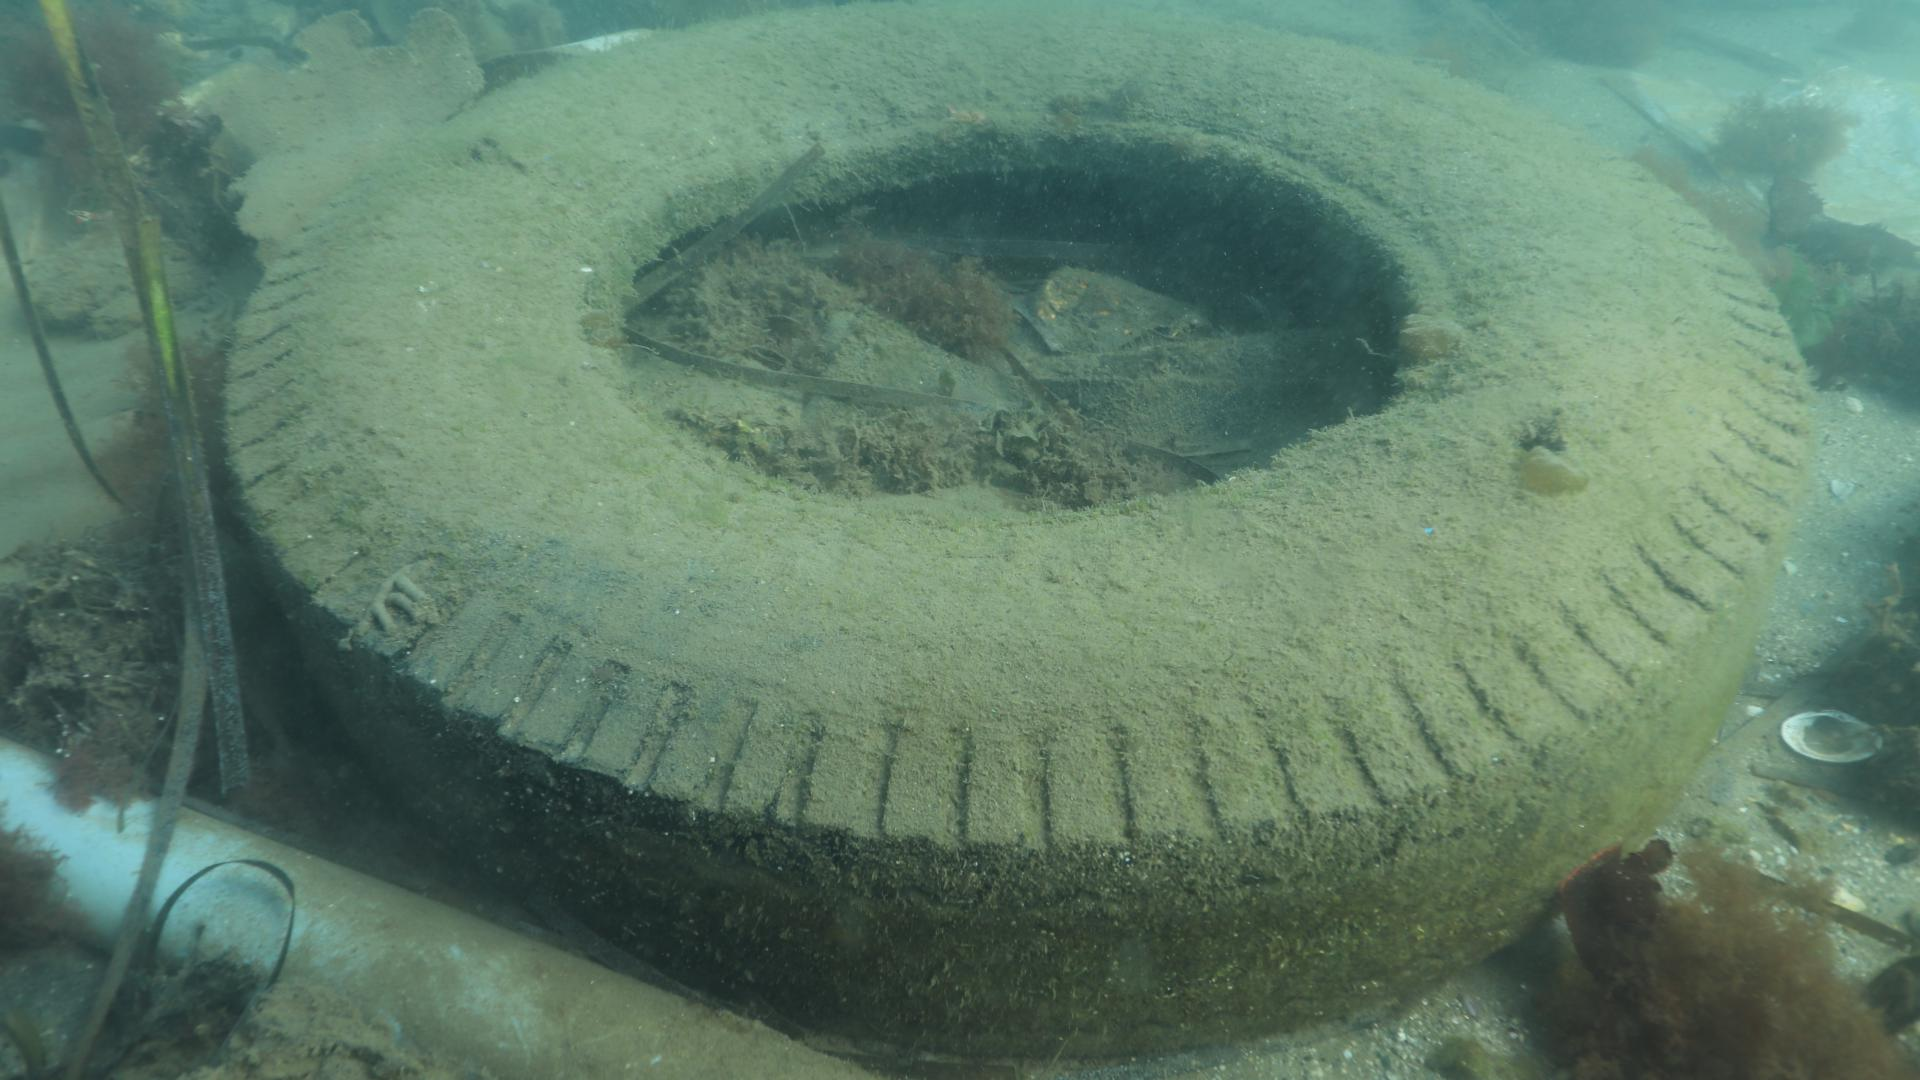tire: (224, 0, 1809, 1062)
